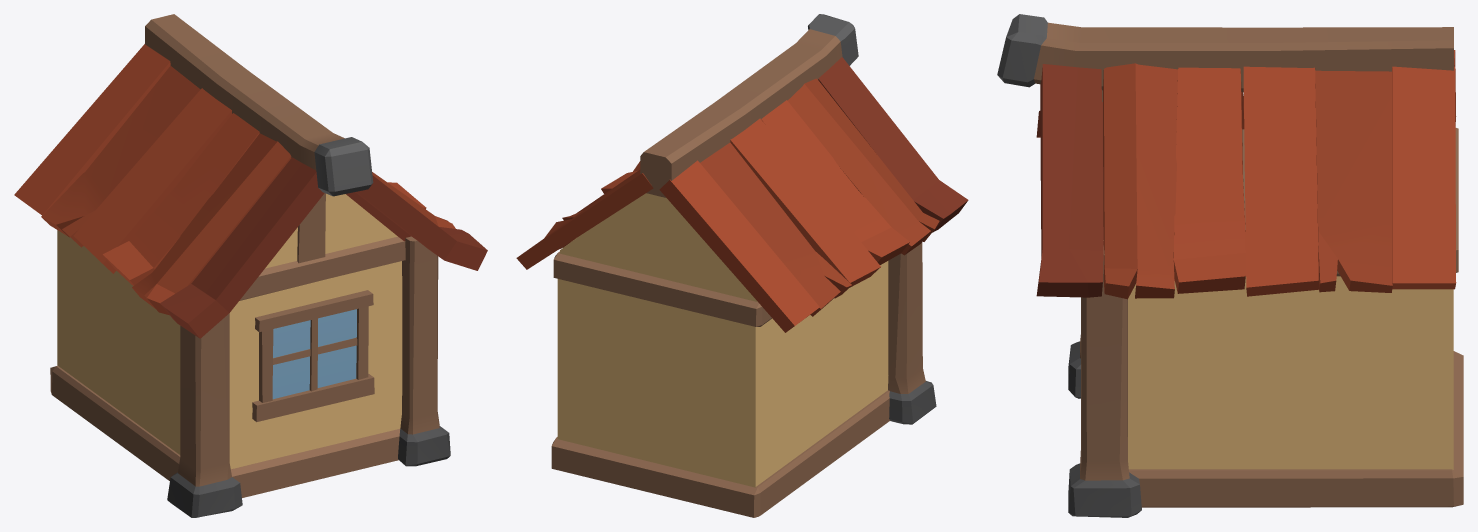
The model's file is House_1Floor_Side_H.fbx.
3 renders of one model, left to right at view 1: azimuth 30°, elevation 25°; view 2: azimuth 150°, elevation 25°; view 3: azimuth 270°, elevation 25°, orthographic. The views are drawn at different scales.
Visible parts, largest first — view 1: House_1Floor_Side_H; view 2: House_1Floor_Side_H; view 3: House_1Floor_Side_H.
Boxes of the visible parts, x1,y1,x2,y2 form: House_1Floor_Side_H: (14, 14, 487, 517); House_1Floor_Side_H: (516, 14, 968, 517); House_1Floor_Side_H: (997, 14, 1463, 517).
Bounding box in the file's own units: 254 × 288 × 287.
